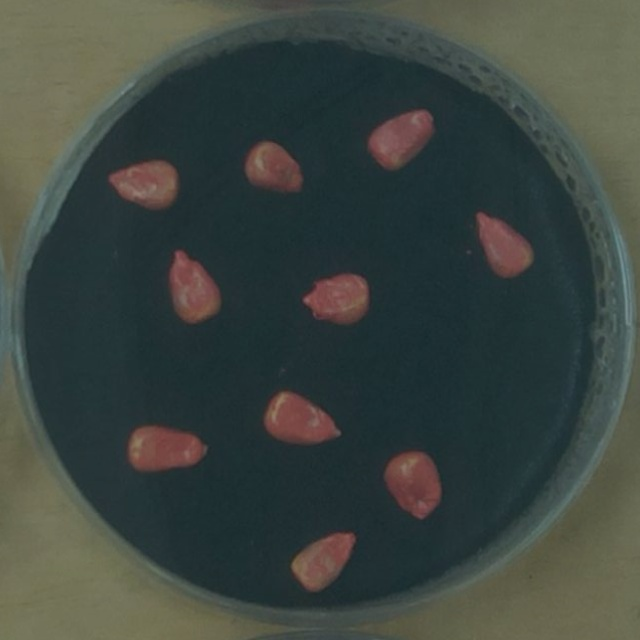Zea mays: (255, 381, 350, 453), (465, 203, 542, 286), (361, 102, 443, 179), (160, 243, 229, 331), (284, 526, 364, 601), (376, 445, 448, 528), (119, 417, 215, 479), (295, 265, 378, 335), (99, 153, 186, 218), (235, 135, 311, 204)
